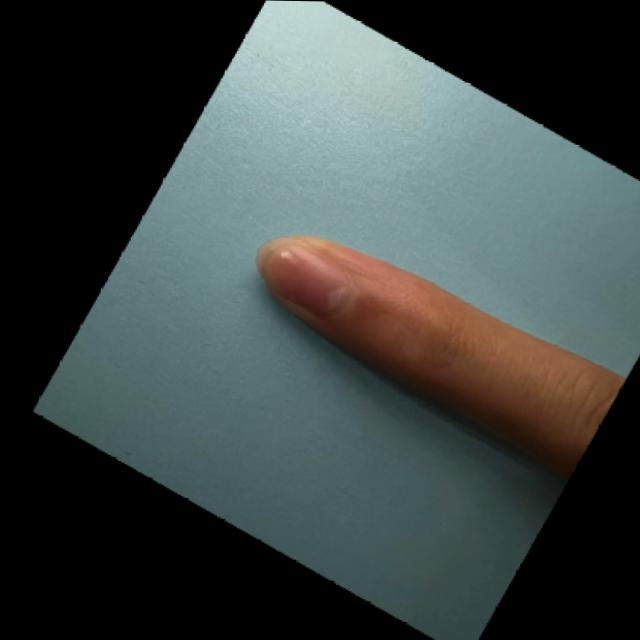Nail: (254, 236, 343, 312)
